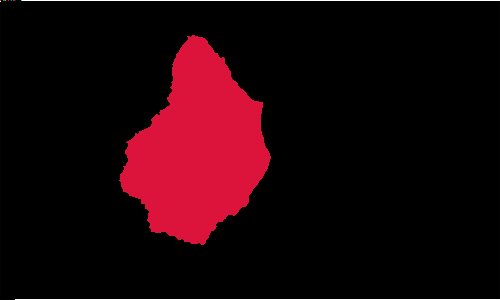toy: (120, 34, 291, 250)
